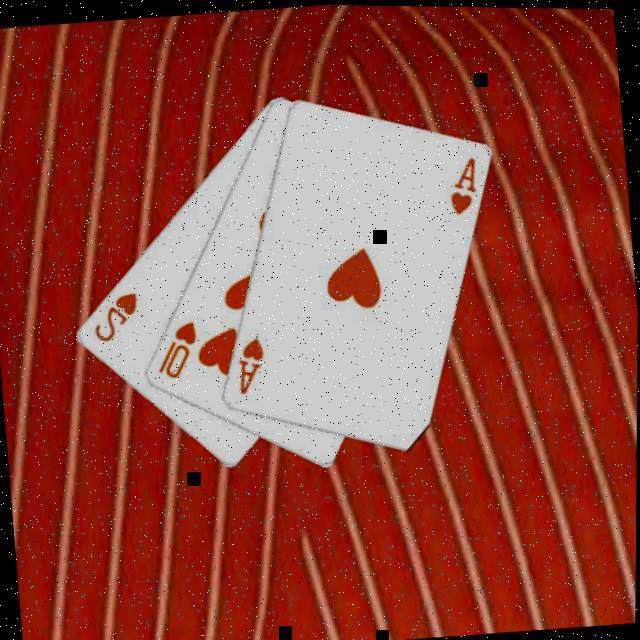10H: (150, 314, 201, 381)
2H: (86, 286, 142, 345)
AH: (229, 330, 268, 395), (441, 150, 480, 215)
